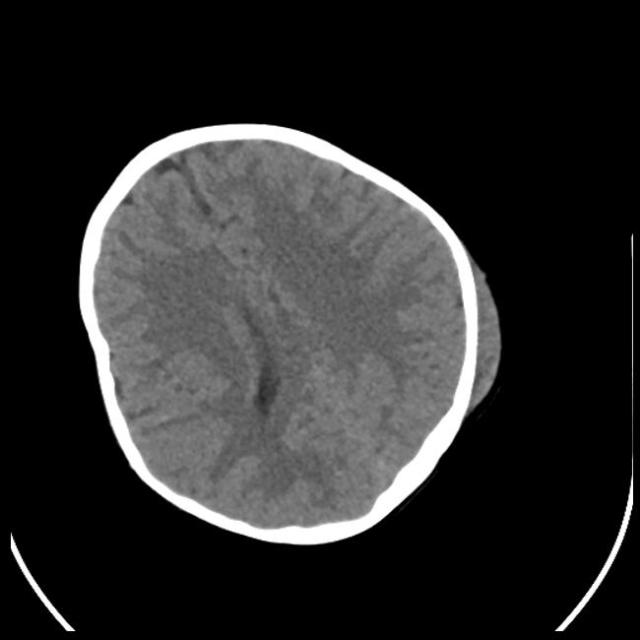lesion: (74, 119, 504, 546)
